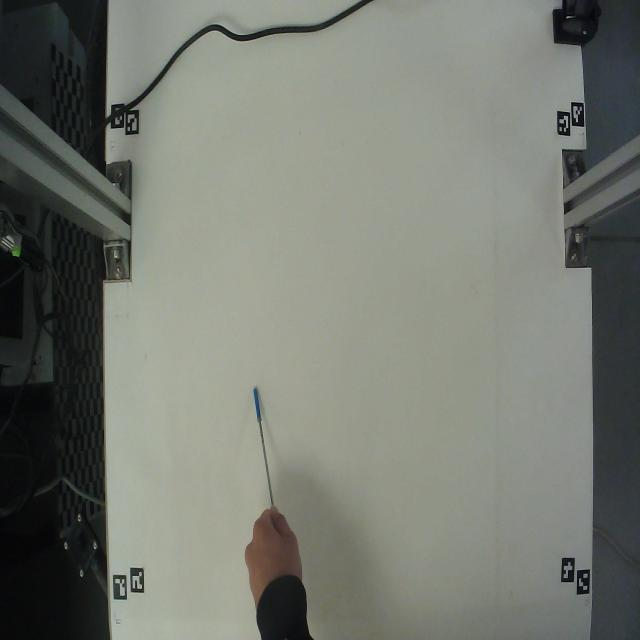Pres: (235, 364, 289, 521)
